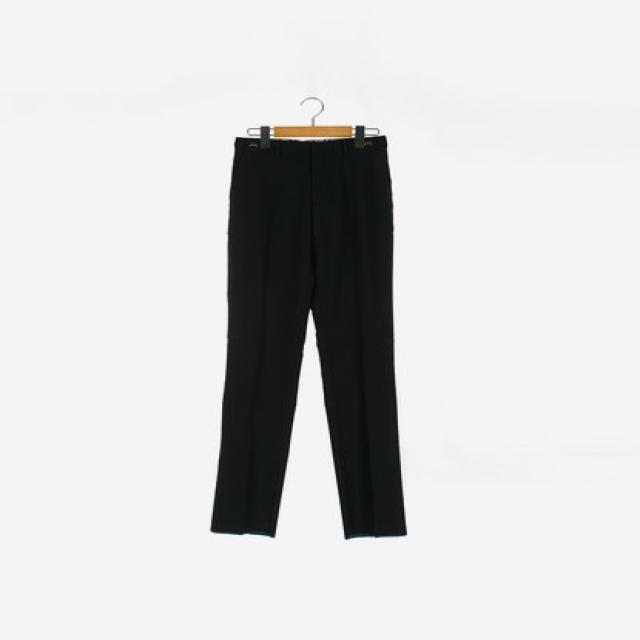pants: (216, 132, 418, 542)
